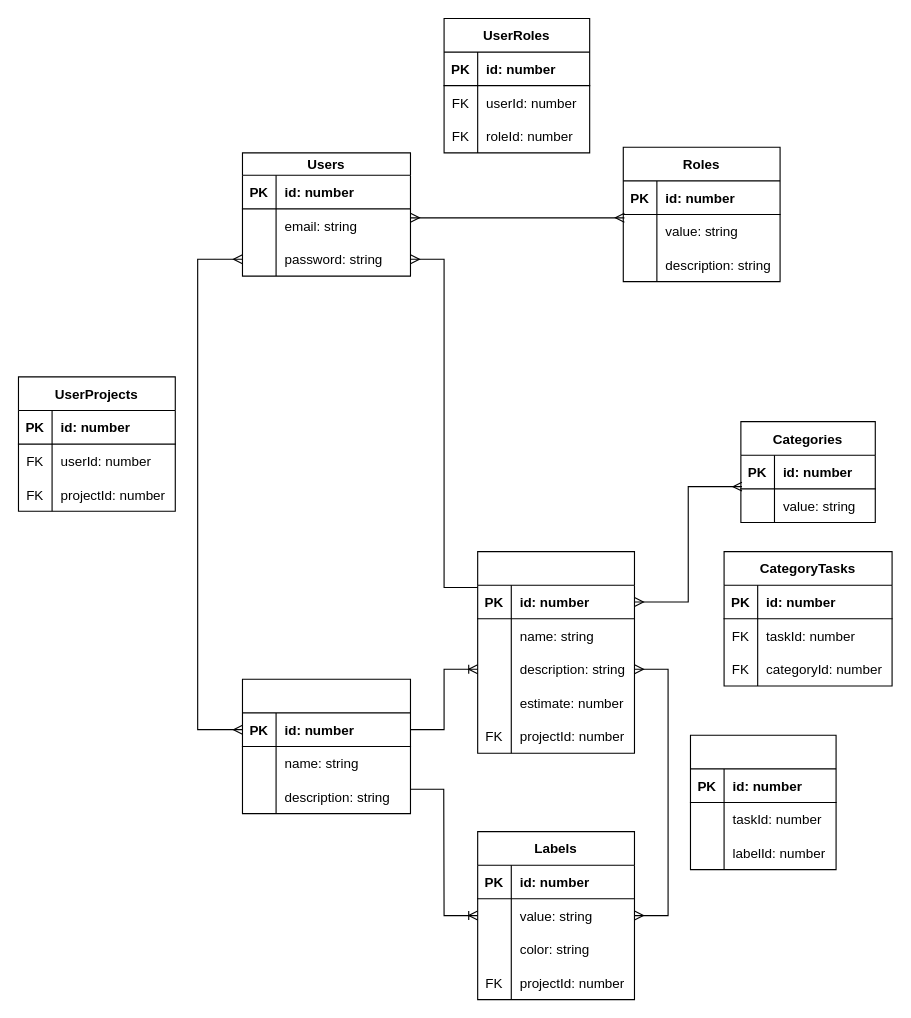
The diagram is 911 pixels wide and 1018 high, and some of its shapes have lost their labels. Here are the shapes that lost their labels. From the top down, the box of each, then its label:
(477, 550, 634, 753): Tasks
(241, 678, 410, 814): Projects
(689, 734, 836, 870): TaskLabels
